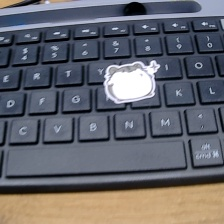mouse: (103, 56, 162, 106)
